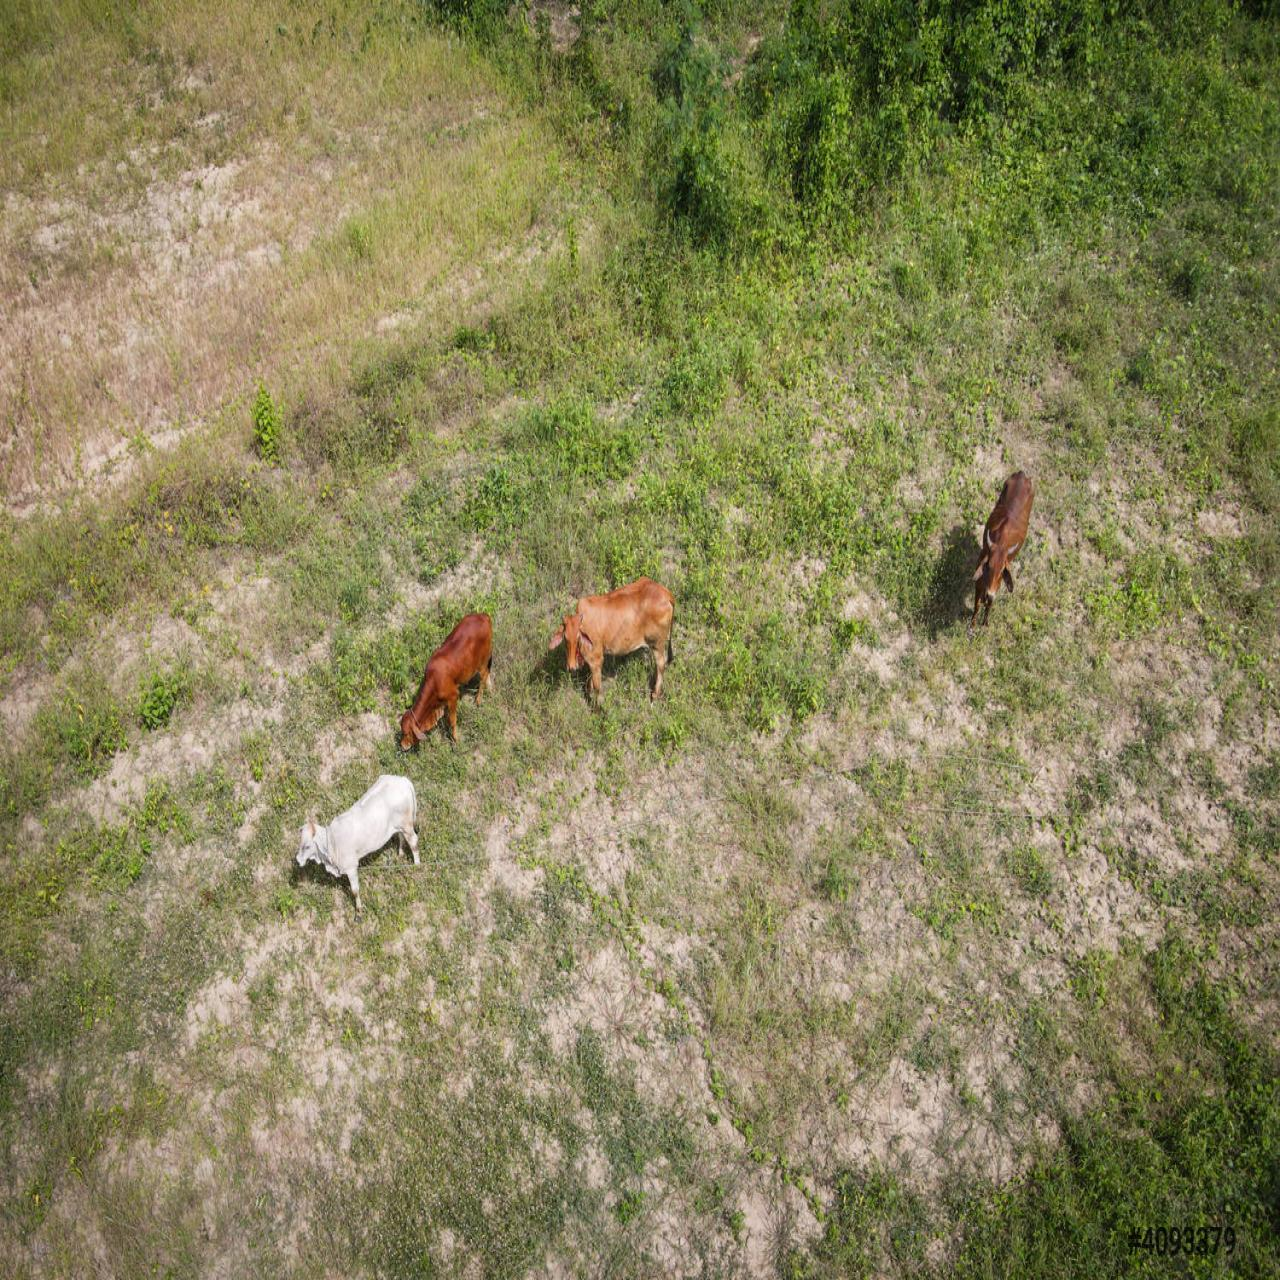cow: (532, 561, 693, 729), (284, 768, 433, 914), (392, 595, 509, 765), (974, 461, 1044, 627)
